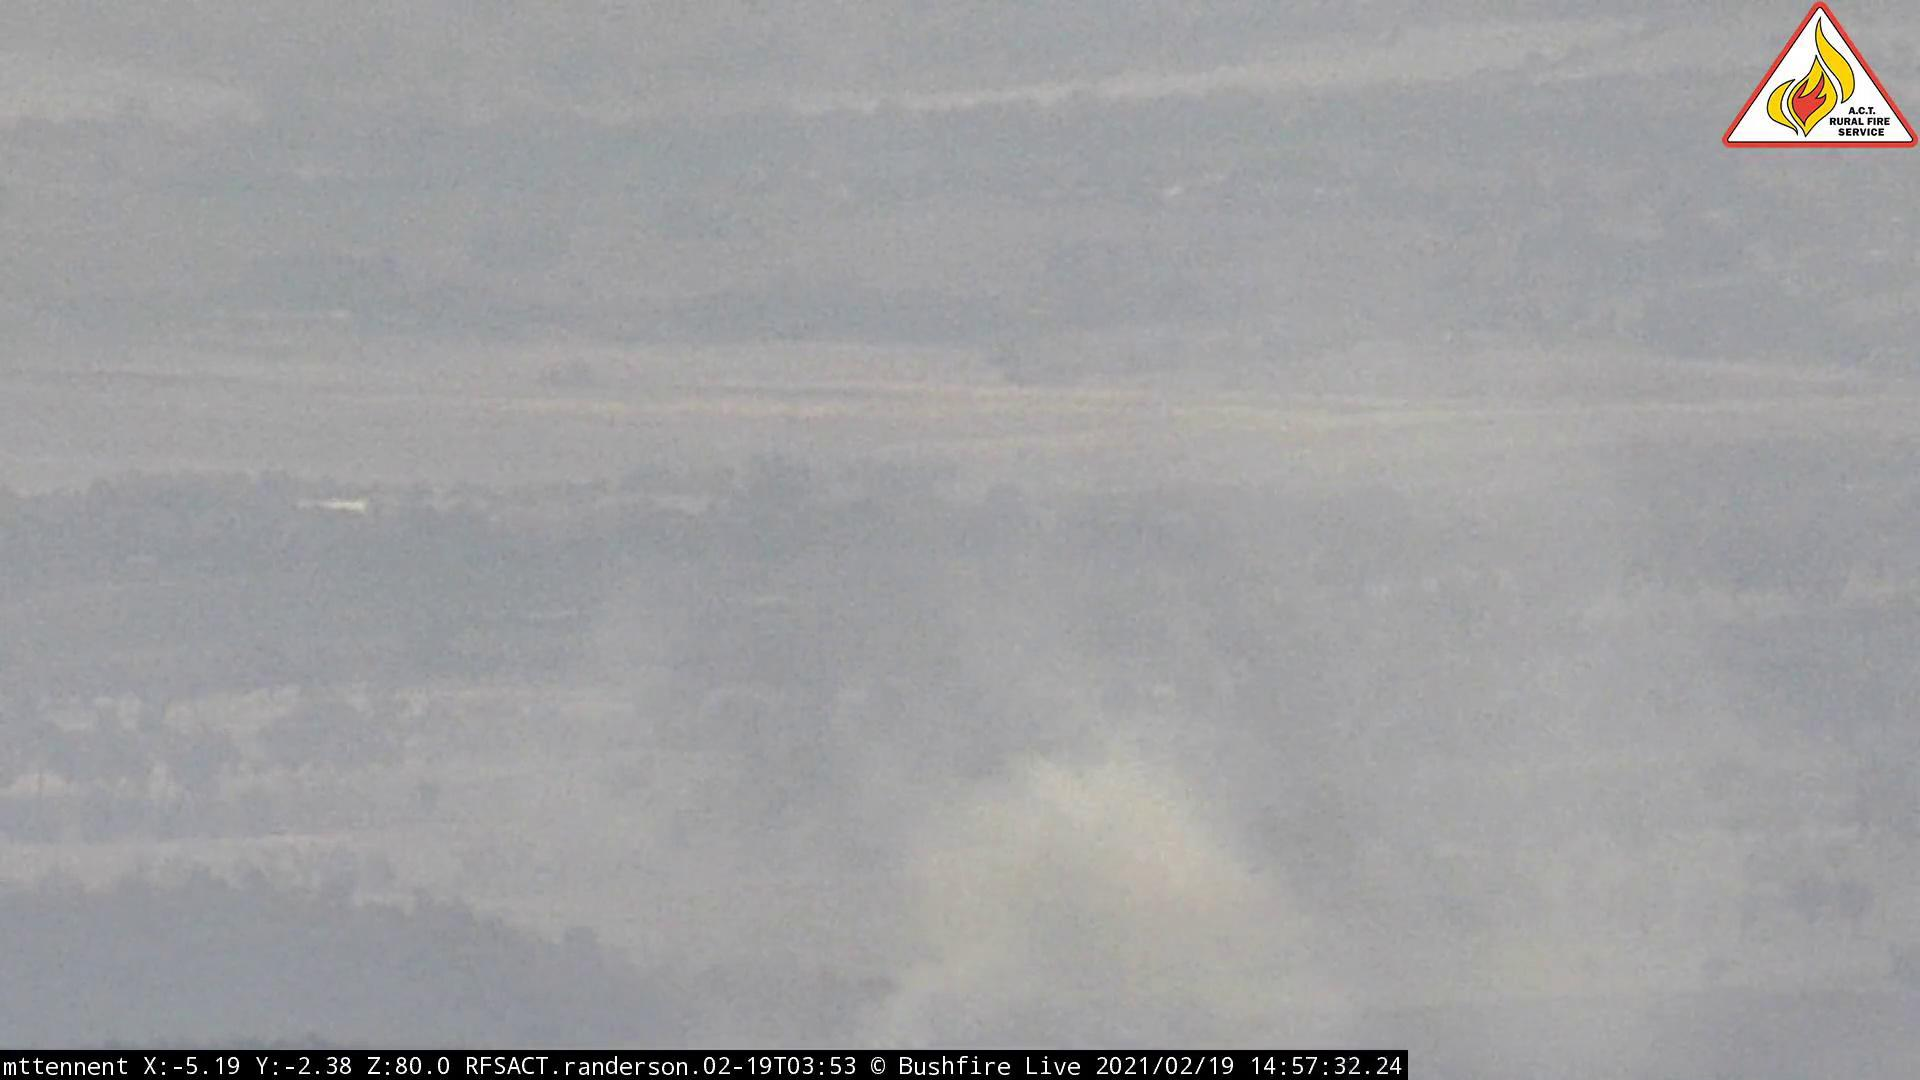Smoke: (796, 702, 1400, 1036)
